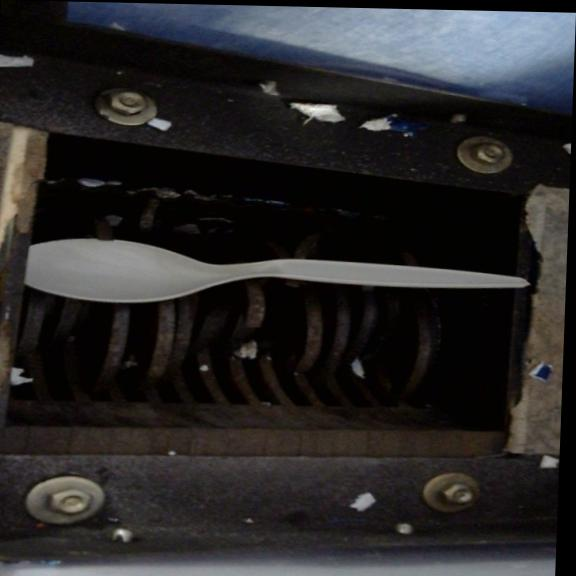Plastik: (3, 226, 561, 333)
